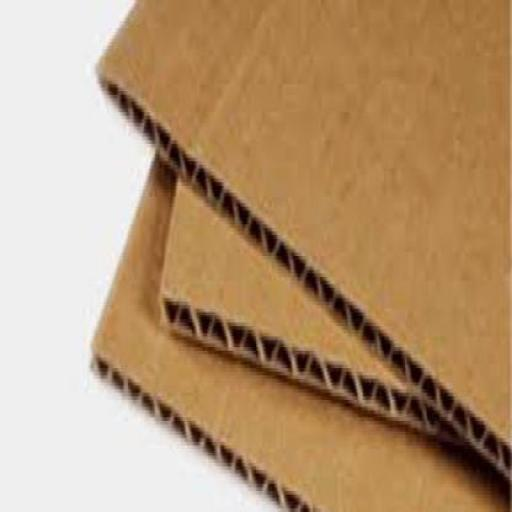cardboard: (95, 0, 511, 481), (87, 147, 511, 509), (156, 172, 466, 452)
